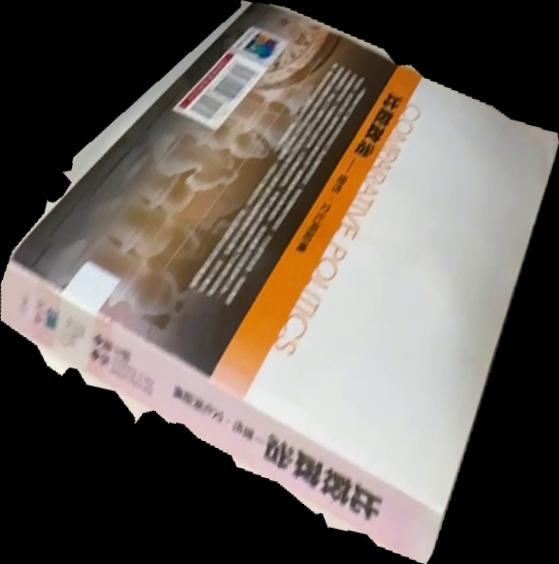flat: (1, 1, 559, 564)
